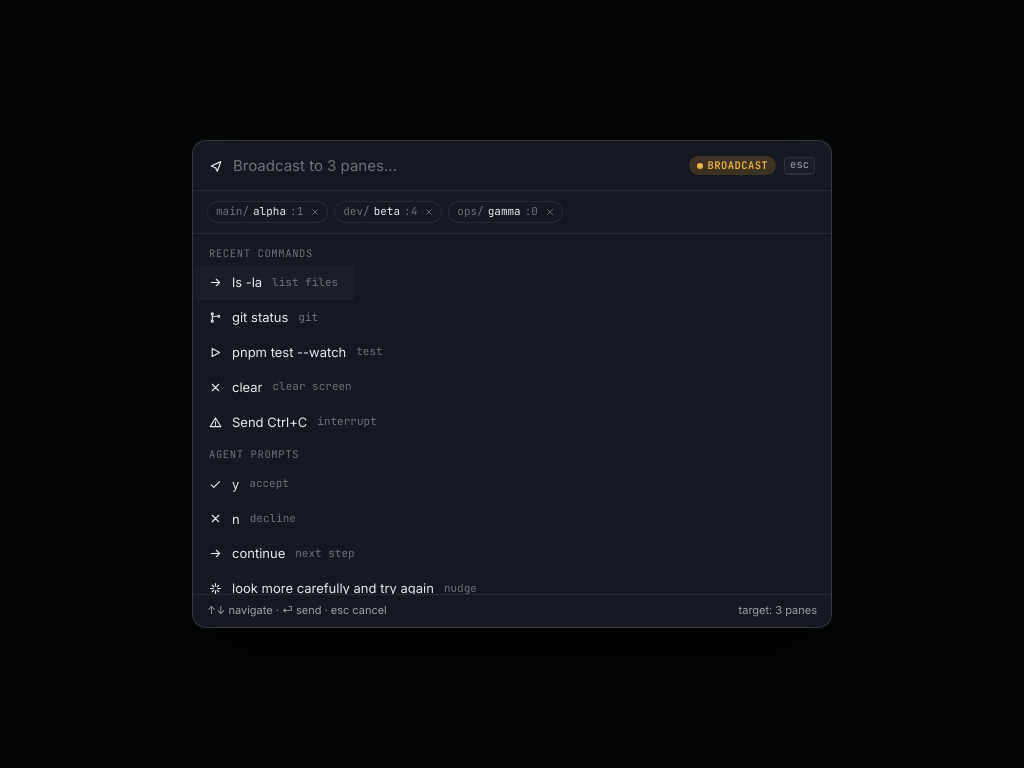
Scenario: CommandPalette broadcast mode (THI-66) › clicking the X on a target chip removes it from the broadcast set
Click the button named "Remove dev:beta from broadcast". click: (429, 212)
box: [421, 204, 437, 220]
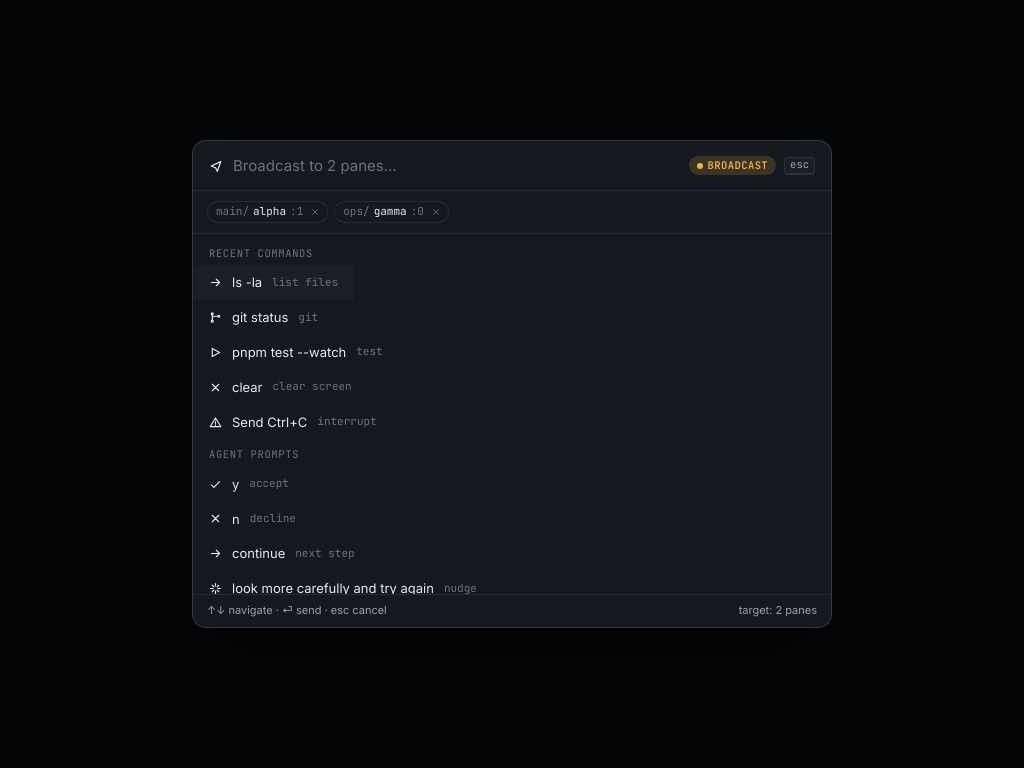
Result: the text "target: 2 panes" is shown at [739, 603, 817, 619]
